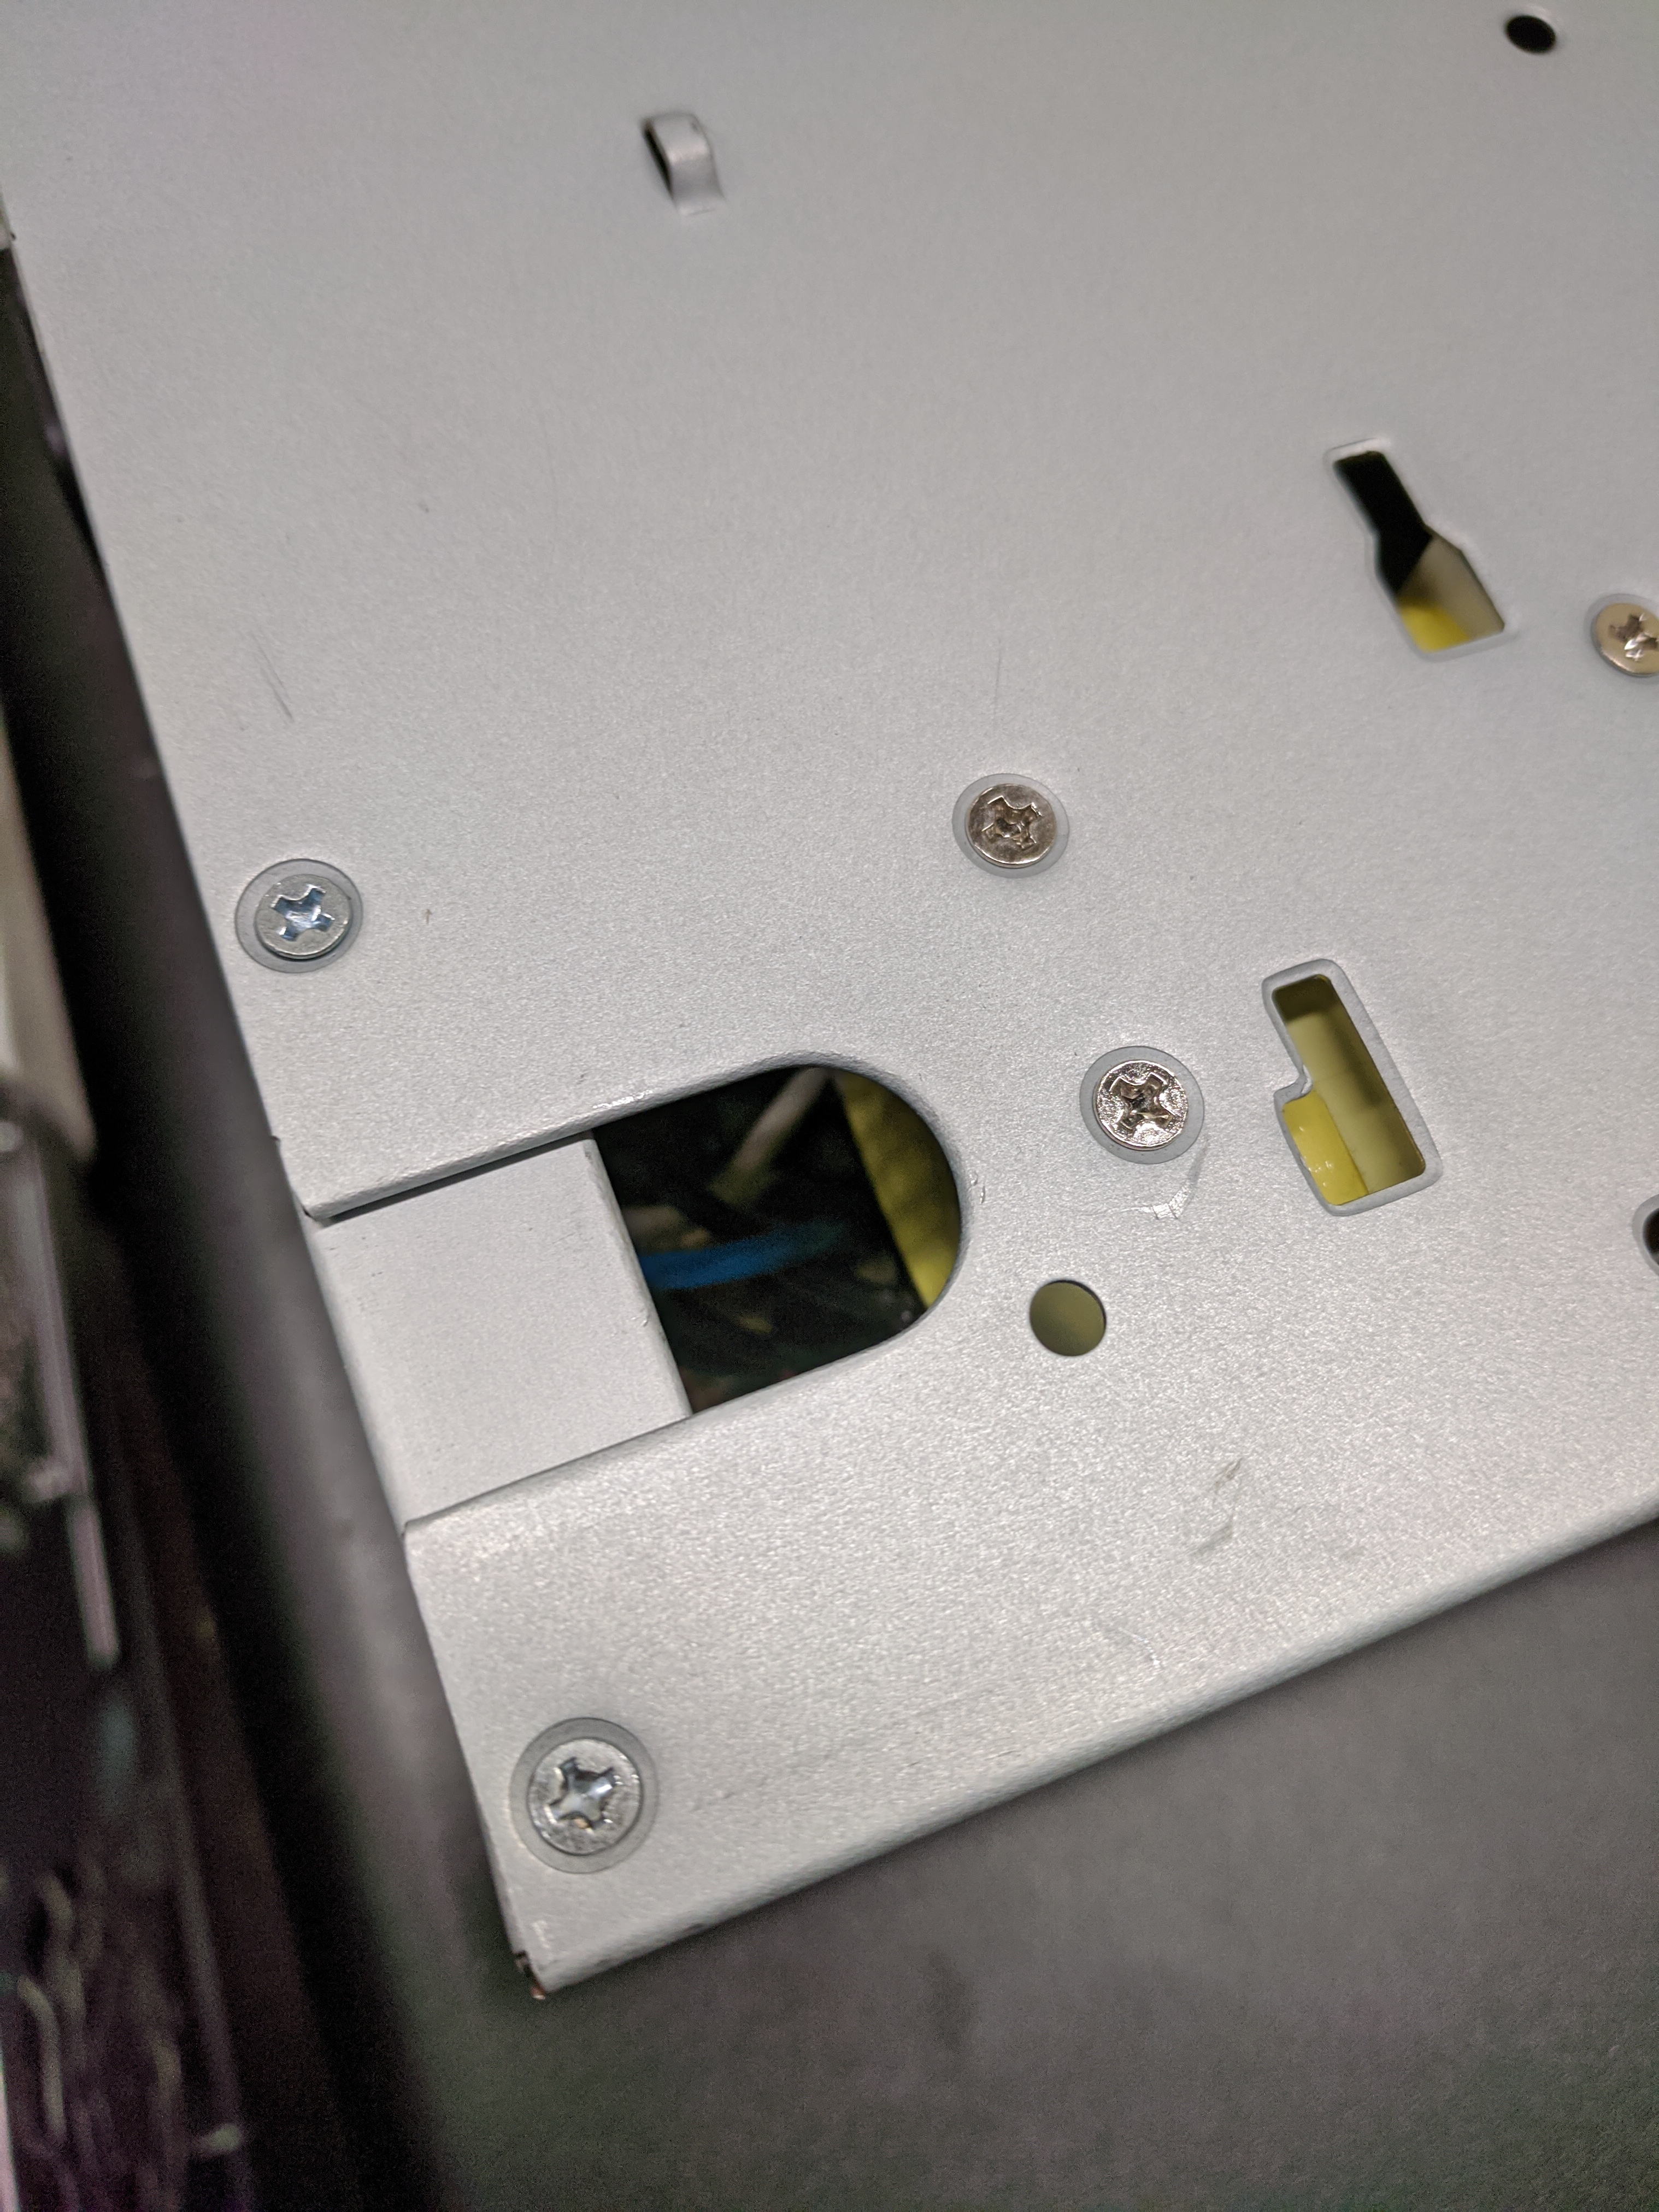cross_recessed_screw: (512, 1717, 633, 1864), (234, 862, 352, 956), (1080, 1045, 1183, 1137), (955, 759, 1046, 853), (1584, 585, 1657, 667)
